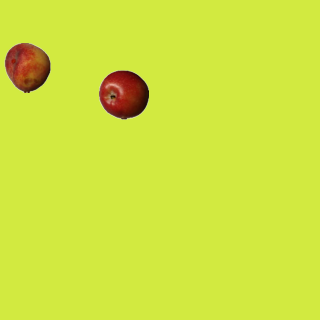Apple Braeburn: (98, 69, 148, 119)
Peach: (2, 42, 52, 92)
